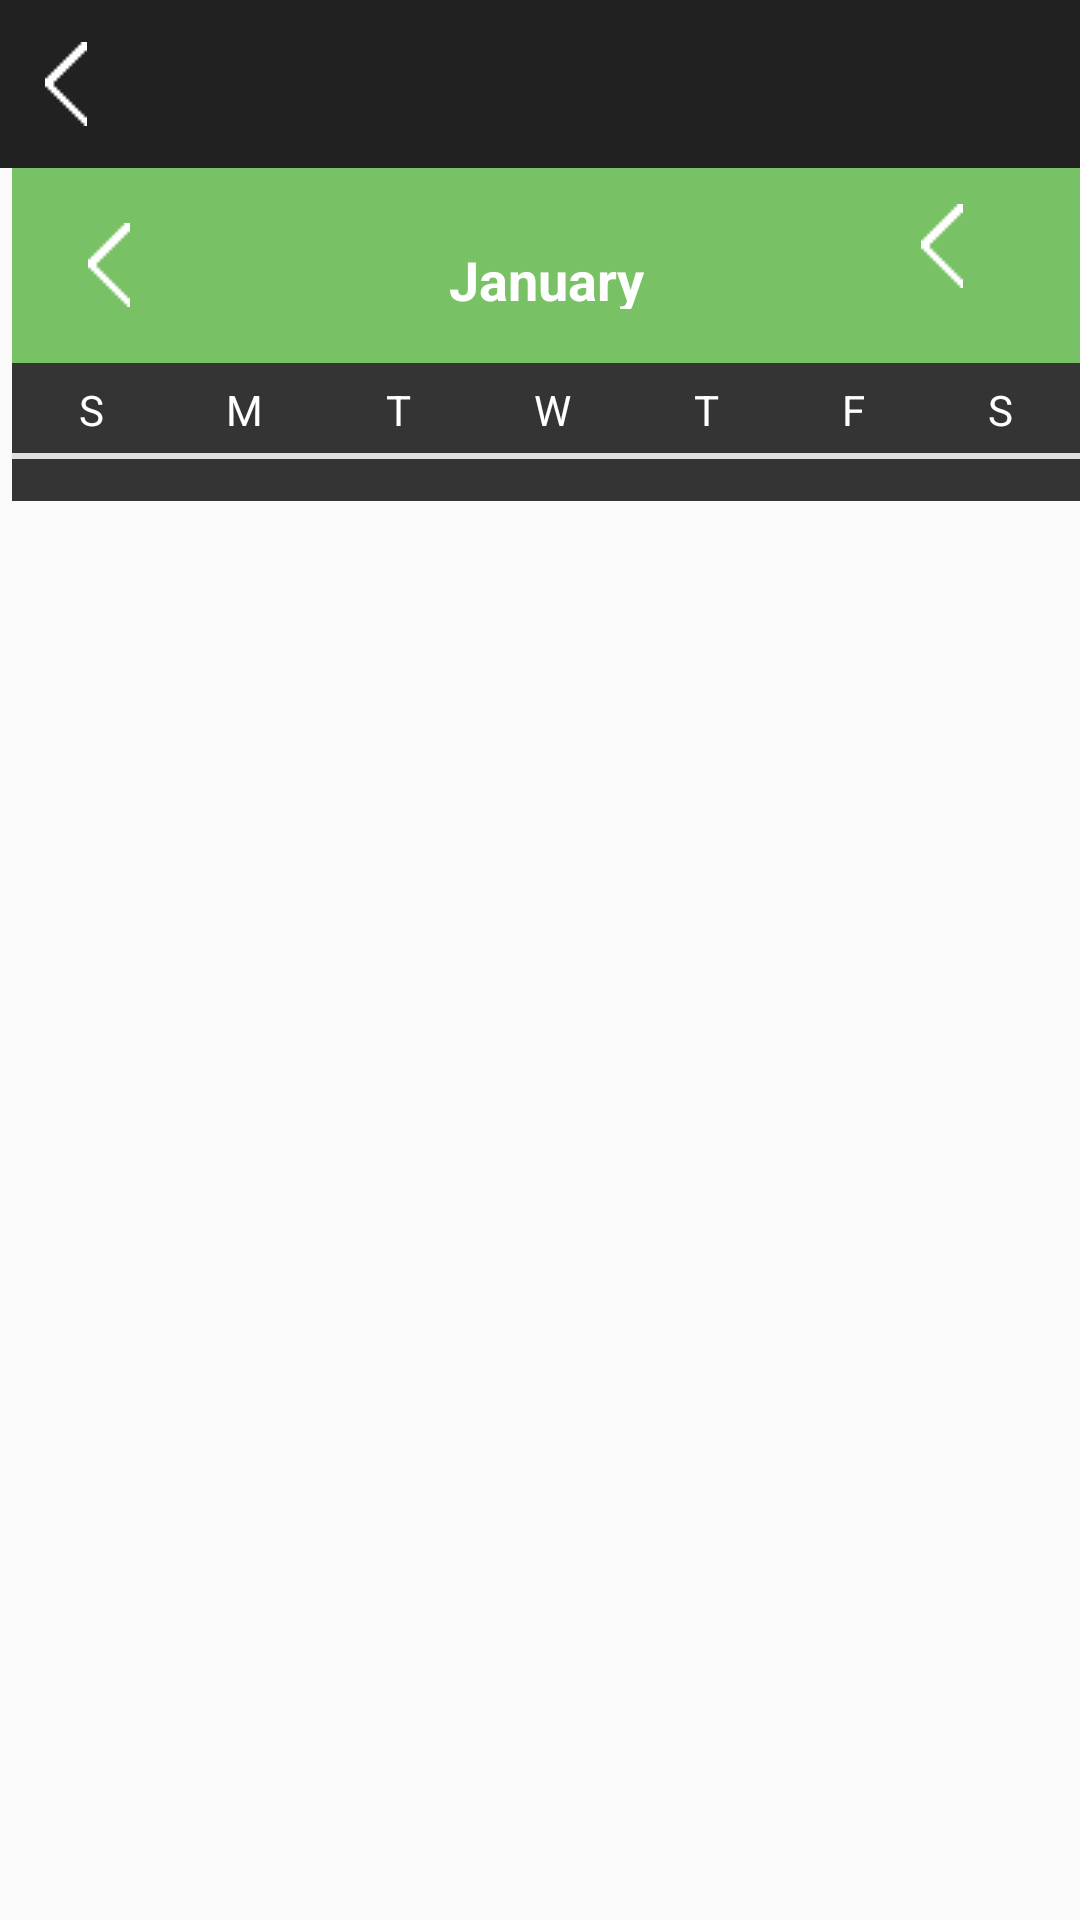

Named icons in this screenshot (1080×1920) and their bounding boxes, (x1, y1, x2, y2):
back: (45, 42, 87, 126), (921, 204, 963, 288), (88, 223, 130, 307)
